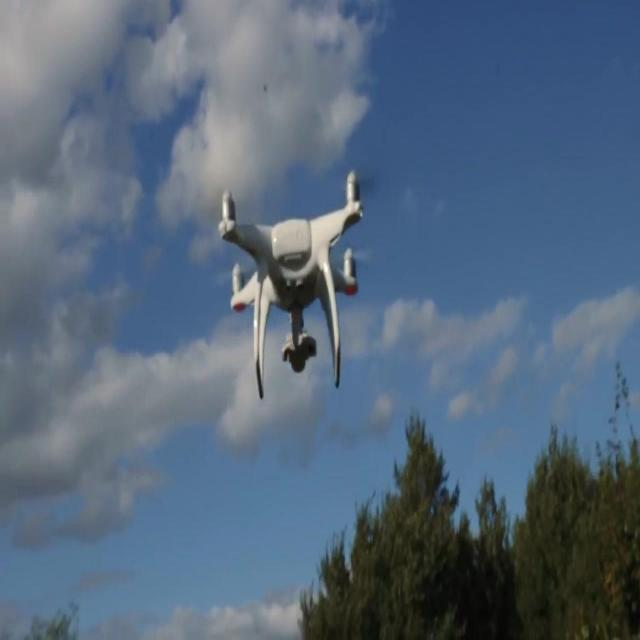UAV: (212, 168, 378, 401)
